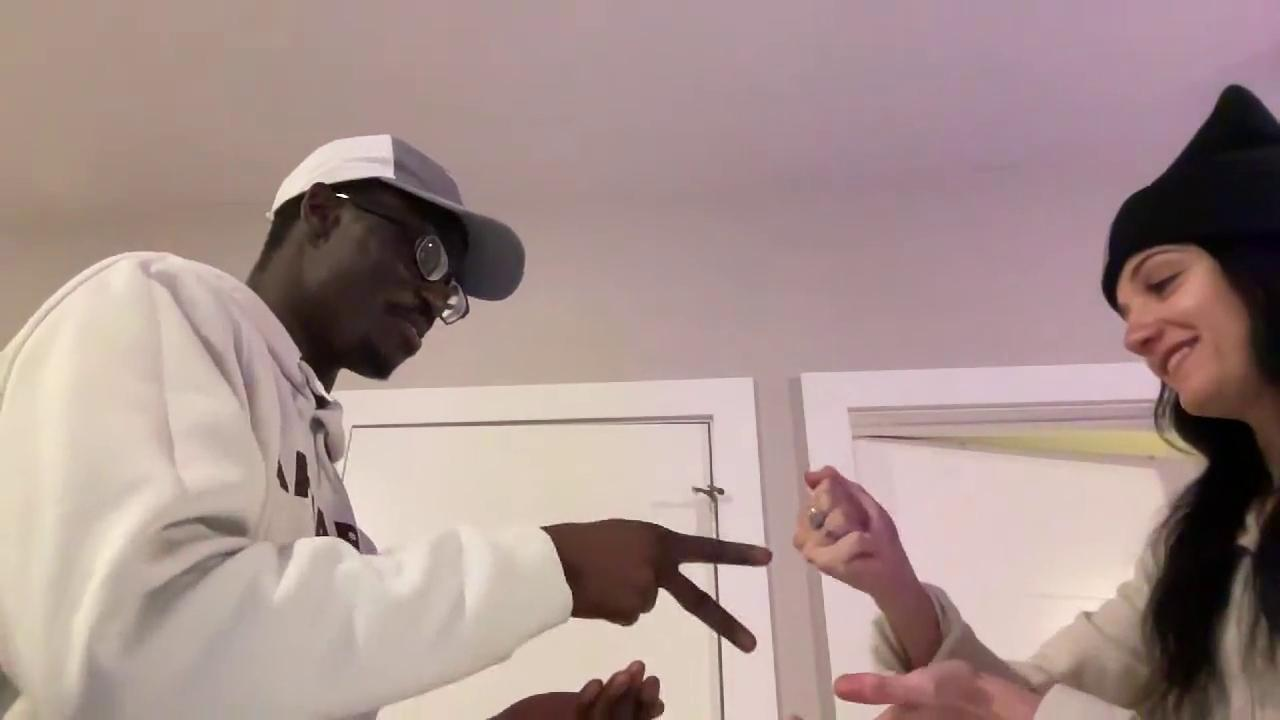Rock: (795, 465, 899, 589)
Scissors: (540, 515, 776, 655)
